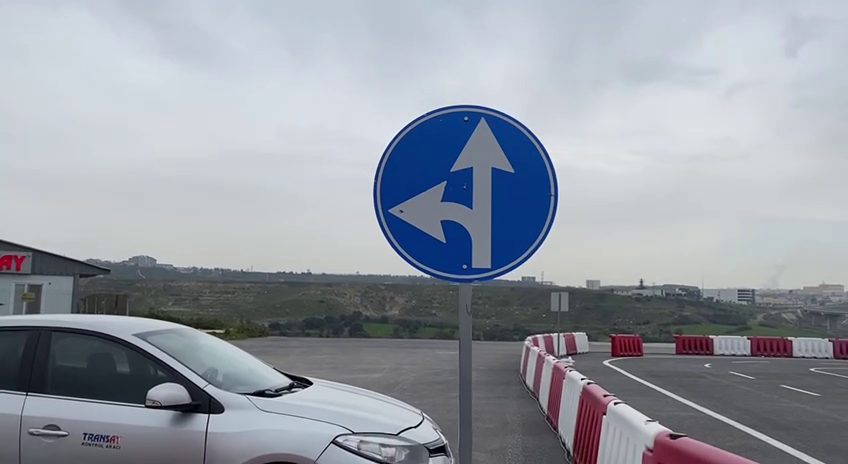forwardAndLeft: (370, 99, 563, 290)
